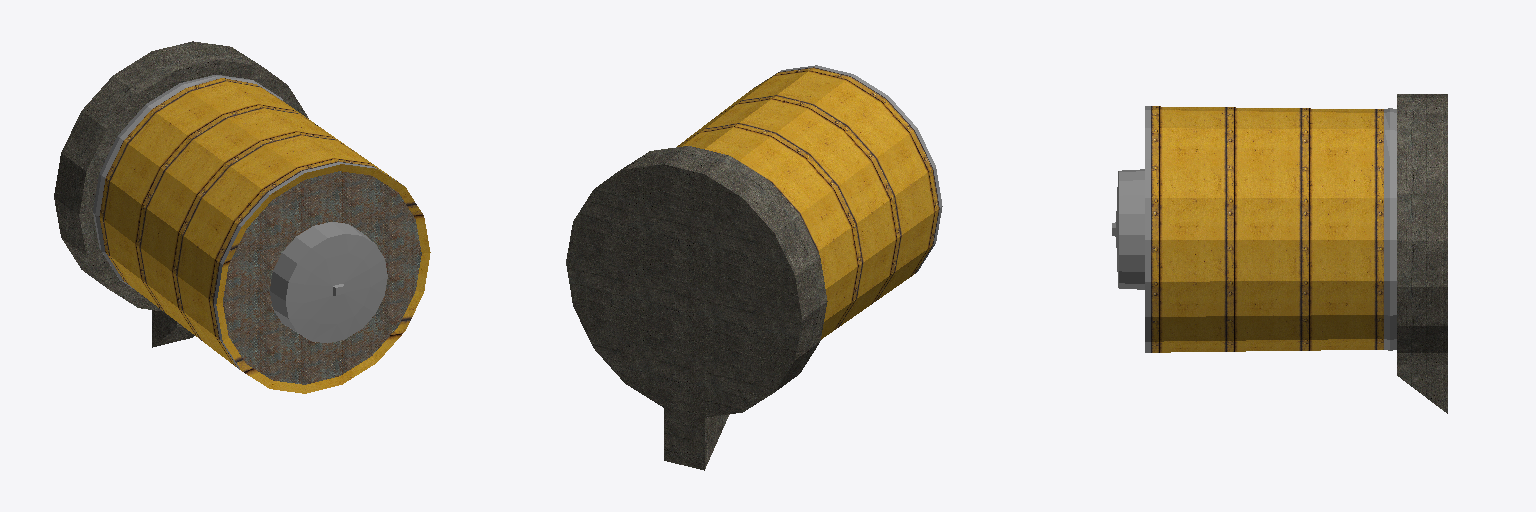
The picture shows the model from 3 angles: view 1: azimuth 30°, elevation 25°; view 2: azimuth 150°, elevation 25°; view 3: azimuth 270°, elevation 25°; orthographic projection.
Parts seen in each view (by area): view 1: MDL_Objec1; view 2: MDL_Objec1; view 3: MDL_Objec1.
Part boxes in pixels (left/top/right/bottom): MDL_Objec1: left=54, top=41, right=430, bottom=393; MDL_Objec1: left=566, top=65, right=942, bottom=470; MDL_Objec1: left=1112, top=94, right=1447, bottom=413.
Size of the model in its own units: 6.3 by 7.55 by 7.75.
Materials: 4 (3 with a texture image).